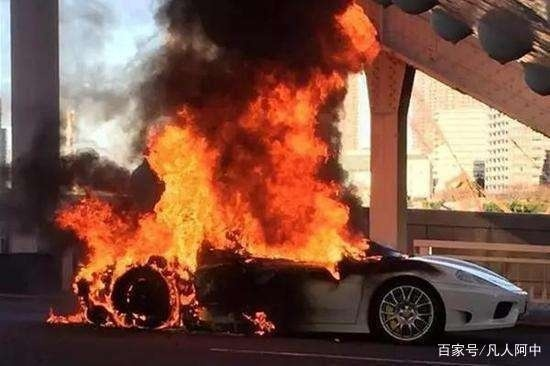fire: (48, 49, 379, 338)
